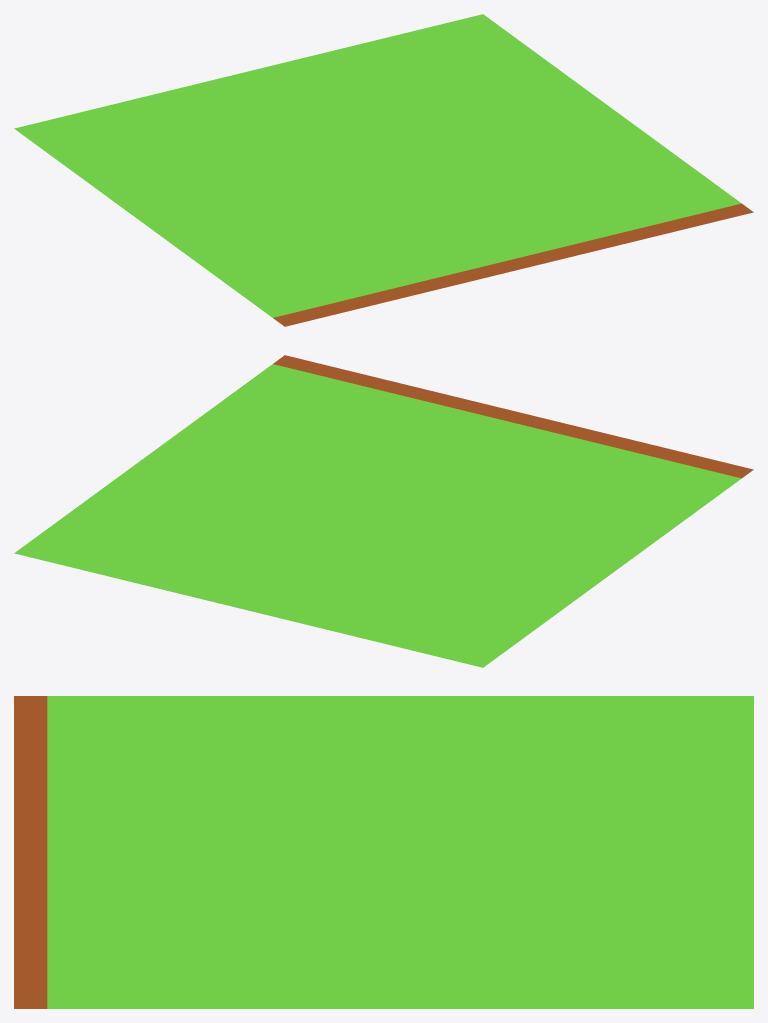
File: grassBorder.fbx
The picture shows the model from 3 angles, top to bottom: view 1: azimuth 30°, elevation 25°; view 2: azimuth 150°, elevation 25°; view 3: azimuth 270°, elevation 25°; orthographic projection. The views are drawn at different scales.
Visible parts, largest first — view 1: grassBorder; view 2: grassBorder; view 3: grassBorder.
Boxes of the visible parts, x1,y1,x2,y2 form: grassBorder: [14, 14, 753, 326]; grassBorder: [14, 355, 753, 667]; grassBorder: [14, 696, 753, 1008].
Bounding box in the file's own units: 200 × 200 × 0.
